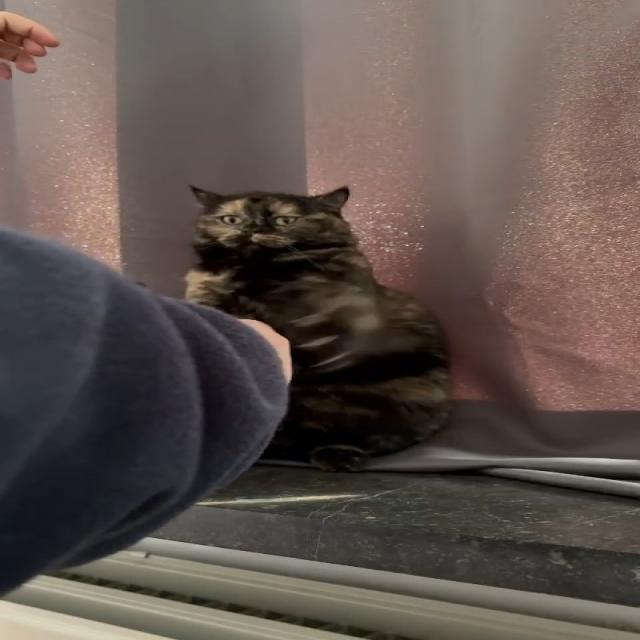authorized: (182, 183, 454, 472)
